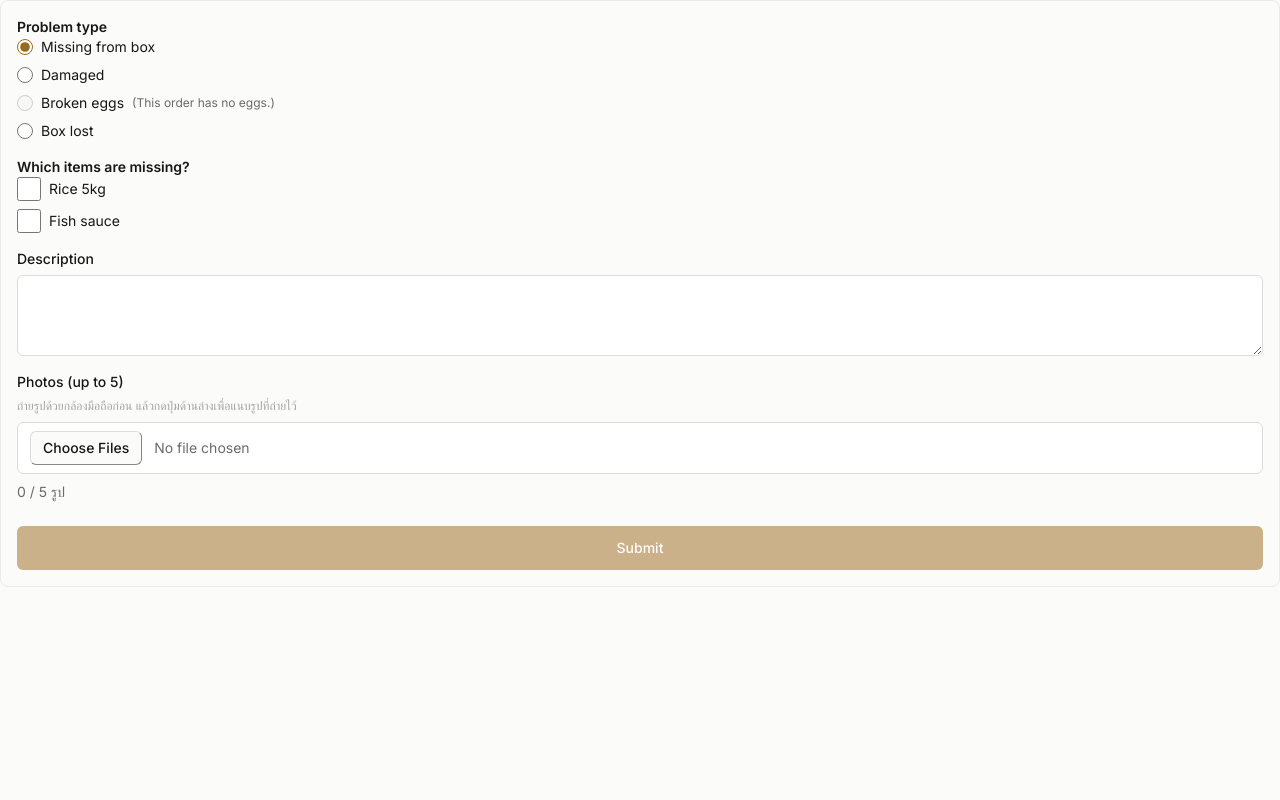
it: missing_in_box: submit is disabled until at least one item is checked
The image size is (1280, 800).
Expected: the button "Submit" is disabled, x1=17 y1=526 x2=1263 y2=570
Click the checkbox labelled "Rice 5kg" at (29, 189), box x1=17 y1=177 x2=41 y2=201
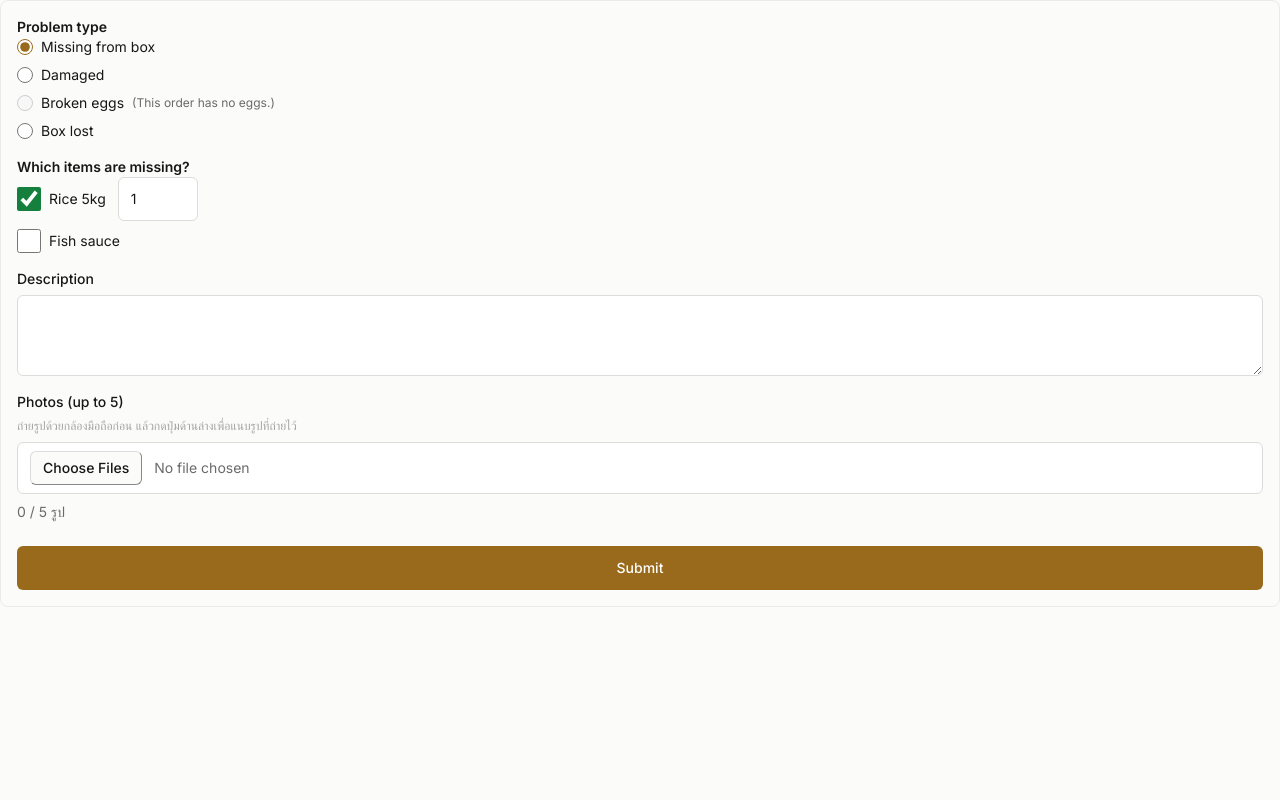
Now the button "Submit" is enabled, box x1=17 y1=546 x2=1263 y2=590
Click the checkbox labelled "Rice 5kg" at (29, 199), box x1=17 y1=187 x2=41 y2=211
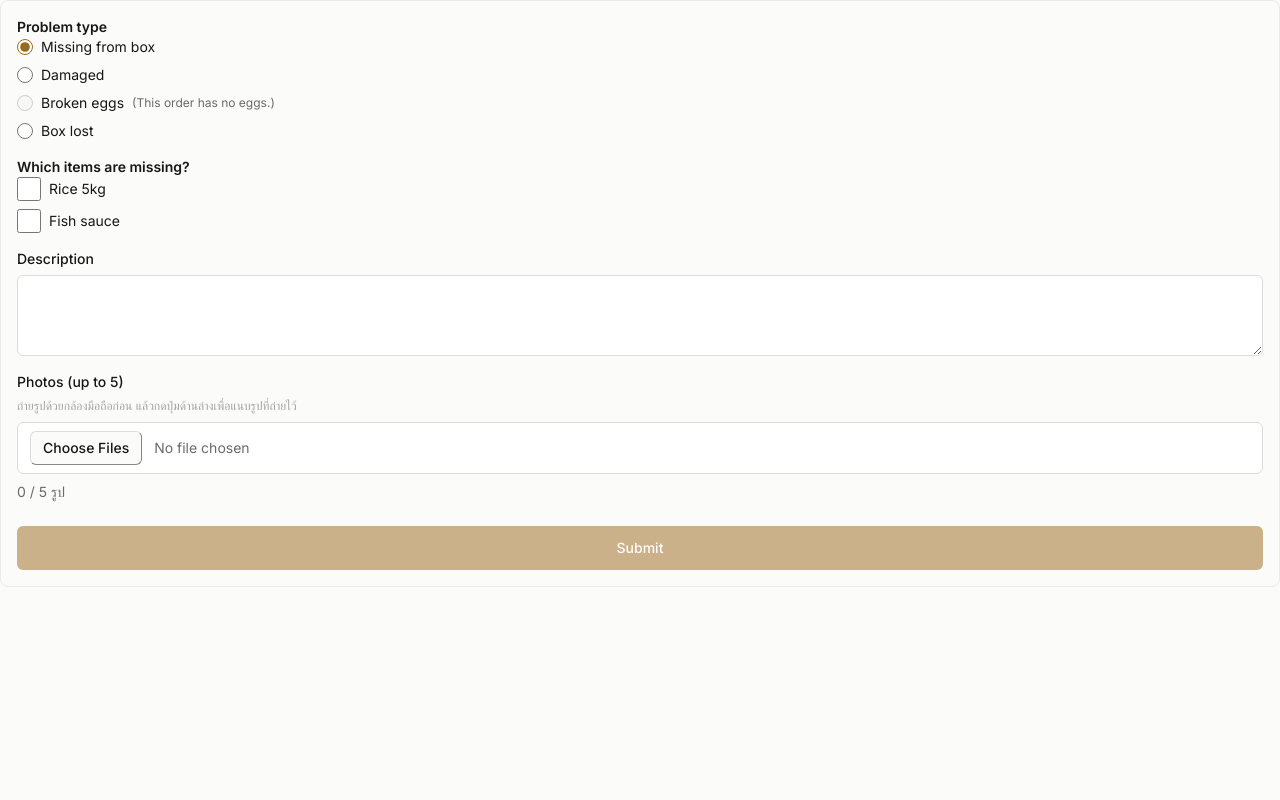
Now the button "Submit" is disabled, box x1=17 y1=526 x2=1263 y2=570
